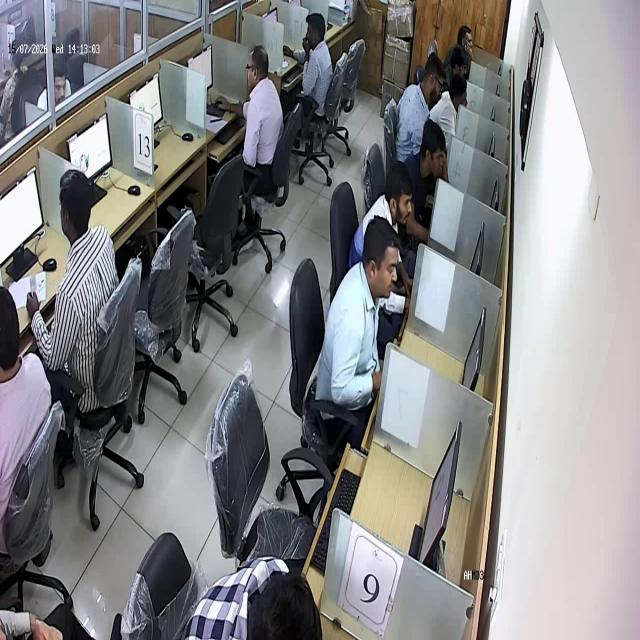paper-chit: (28, 276, 44, 300)
